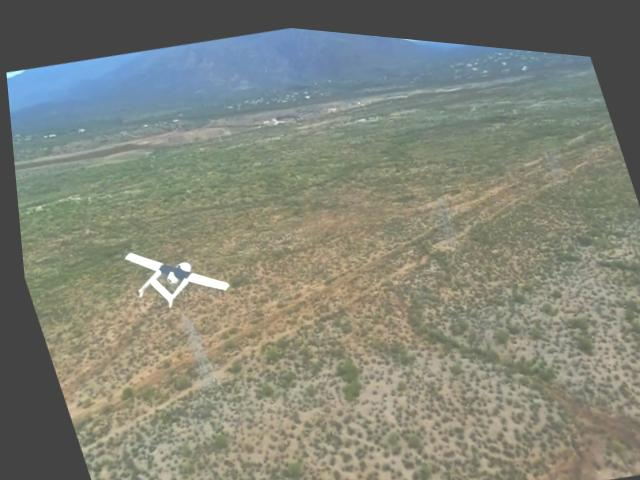plane: (111, 224, 232, 321)
